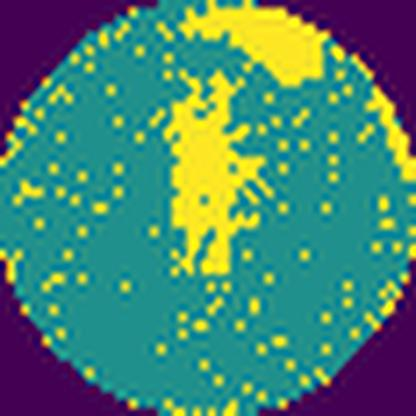Loc: (163, 68, 269, 276), (179, 1, 331, 83)
